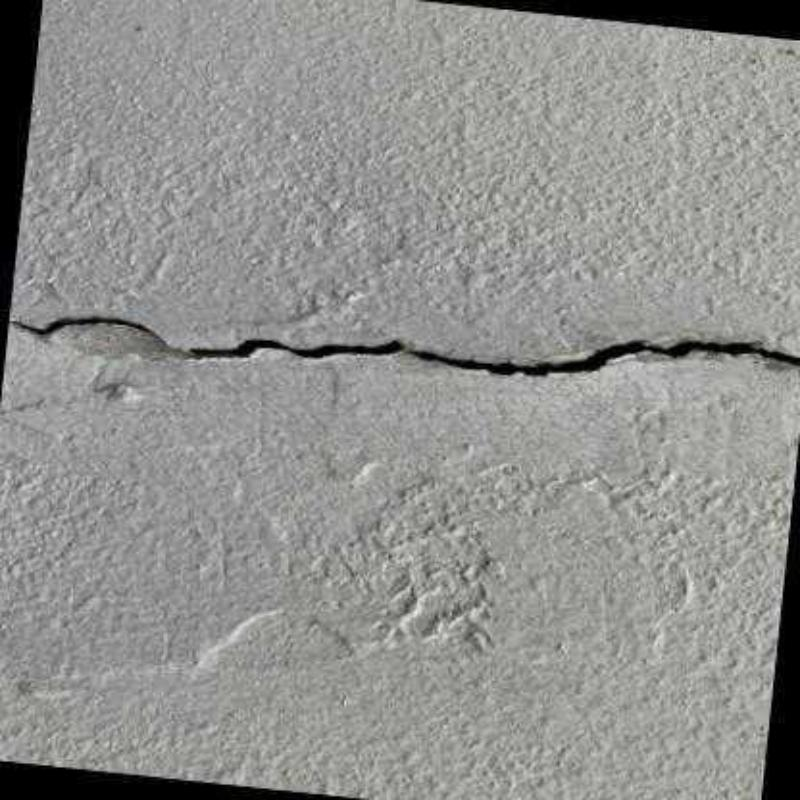crack: (8, 318, 405, 359), (410, 339, 798, 377)
